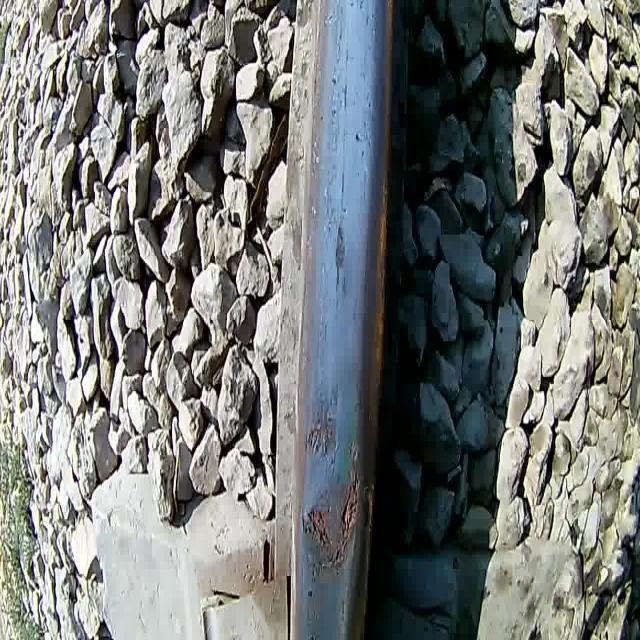Cracks: (329, 19, 353, 296), (311, 538, 354, 580), (304, 424, 326, 460), (327, 436, 342, 482)
Spallings: (327, 436, 364, 580), (304, 405, 337, 456), (299, 499, 330, 552)
Squats: (296, 436, 364, 593), (302, 401, 339, 461), (333, 218, 348, 274)
